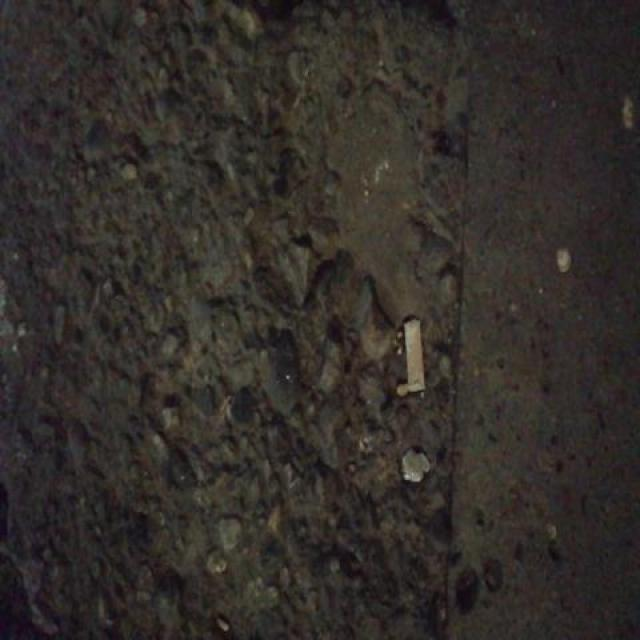non-organic waste: (401, 311, 430, 398)
